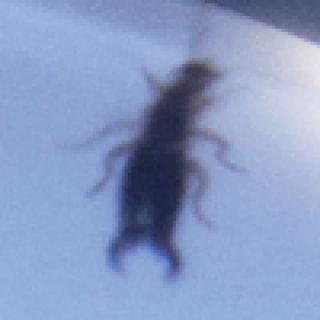earwig: (64, 27, 250, 286)
